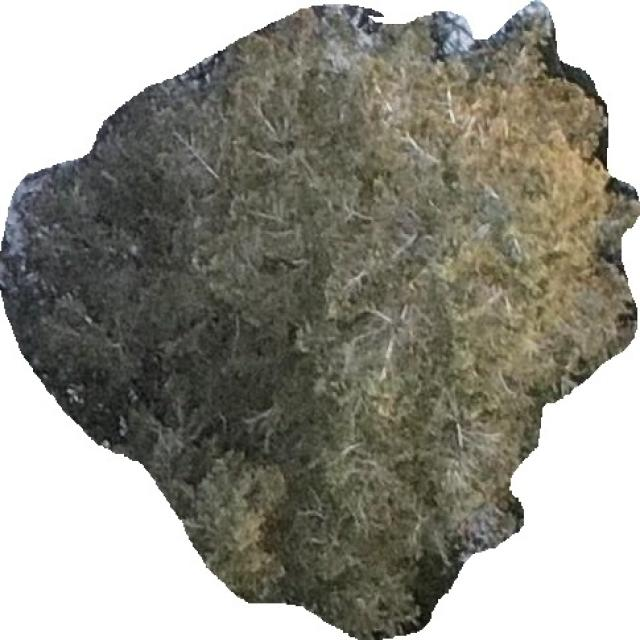spruce: (0, 1, 639, 639)
